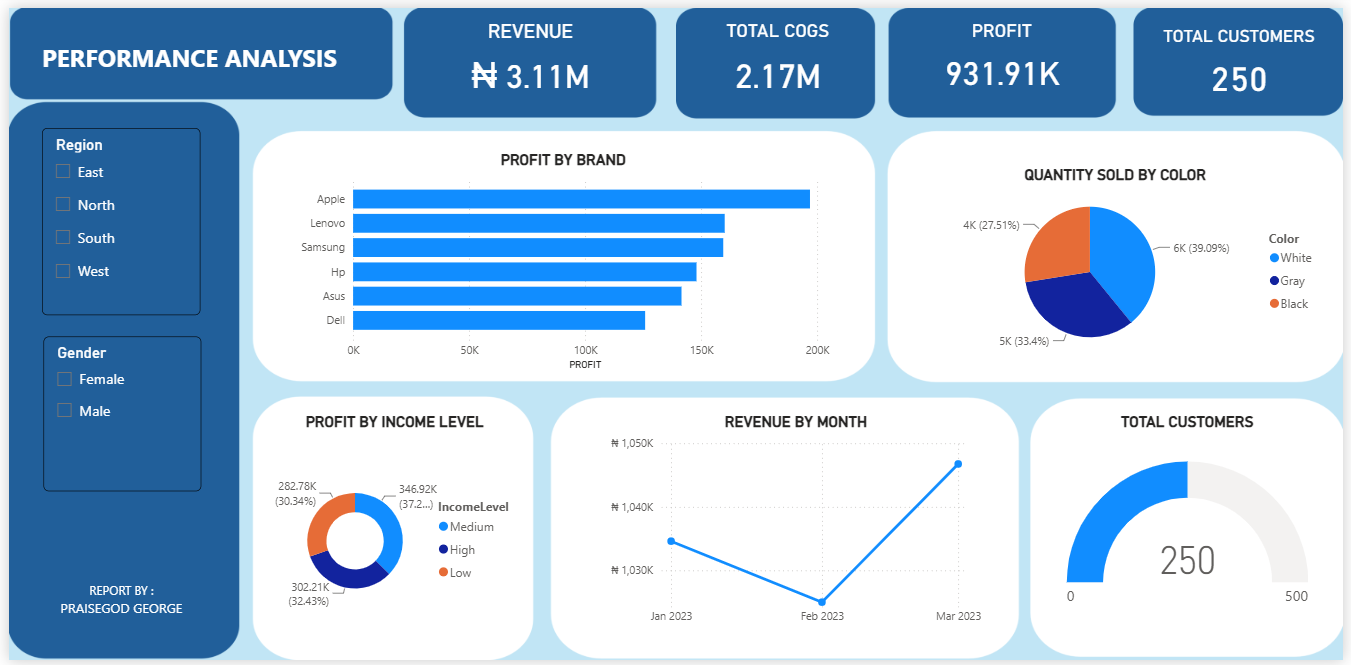

What the dashboard file says about the page in this screenshot:
{"tool":"powerbi","page":{"name":"Page 1","canvas":[1483,724],"ordinal":0},"visuals":[{"type":"clusteredBarChart","title":"PROFIT BY BRAND","fields":{"Category":["Products.Brand"],"Y":["Customers.Total Profit"]},"box":[315,158.3,601.7,248.3],"z":0},{"type":"pieChart","title":"QUANTITY SOLD BY COLOR","fields":{"Category":["Products.Color"],"Y":["Sum(Sales.Quantity)"]},"box":[996.7,175,465,216.7],"z":1000},{"type":"lineChart","title":" REVENUE BY MONTH","fields":{"Category":["Sales.SaleDate.Variation.Date Hierarchy.Year","Sales.SaleDate.Variation.Date Hierarchy.Month"],"Y":["Customers.TOTAL REVENUE"]},"box":[664,450,422,244],"z":2000},{"type":"gauge","title":"TOTAL CUSTOMERS","fields":{"Y":["Customers.Total Customers"]},"box":[1170,450,278.3,253.3],"z":3000},{"type":"donutChart","title":"PROFIT BY INCOME LEVEL","fields":{"Category":["Customers.IncomeLevel"],"Y":["Customers.PROFIT"]},"box":[286,450,284,264],"z":4000},{"type":"textbox","box":[13.3,13.3,381.7,66.7],"z":5000},{"type":"slicer","fields":{"Values":["Customers.Region"]},"box":[36,134,176,208],"z":6000},{"type":"slicer","fields":{"Values":["Customers.Gender"]},"box":[38.3,365,175,171.7],"z":7000},{"type":"card","title":"REVENUE","fields":{"Values":["Customers.TOTAL REVENUE"]},"box":[450,13.3,258.3,93.3],"z":8000},{"type":"card","title":"TOTAL COGS","fields":{"Values":["Customers.TOTAL COGS"]},"box":[766.7,13.3,175,100],"z":9000},{"type":"card","title":"PROFIT","fields":{"Values":["Customers.PROFIT"]},"box":[996.7,13.3,213.3,93.3],"z":10000},{"type":"card","title":"TOTAL CUSTOMERS","fields":{"Values":["Customers.Total Customers"]},"box":[1271.7,20,190,93.3],"z":11000},{"type":"textbox","box":[36.7,596.7,176.7,106.7],"z":12000}]}

Visuals, with their boxes in screenshot pixels (x1, y1, x2, y2), scaled from the page's 1483x724 canvas onto the 1351x665 screenshot:
"PROFIT BY BRAND" clusteredBarChart: <region>287, 145, 835, 373</region>
"QUANTITY SOLD BY COLOR" pieChart: <region>908, 161, 1332, 360</region>
" REVENUE BY MONTH" lineChart: <region>605, 413, 989, 637</region>
"TOTAL CUSTOMERS" gauge: <region>1066, 413, 1319, 646</region>
"PROFIT BY INCOME LEVEL" donutChart: <region>261, 413, 519, 656</region>
textbox: <region>12, 12, 360, 73</region>
slicer - Customers.Region: <region>33, 123, 193, 314</region>
slicer - Customers.Gender: <region>35, 335, 194, 493</region>
"REVENUE" card: <region>410, 12, 645, 98</region>
"TOTAL COGS" card: <region>698, 12, 858, 104</region>
"PROFIT" card: <region>908, 12, 1102, 98</region>
"TOTAL CUSTOMERS" card: <region>1159, 18, 1332, 104</region>
textbox: <region>33, 548, 194, 646</region>
